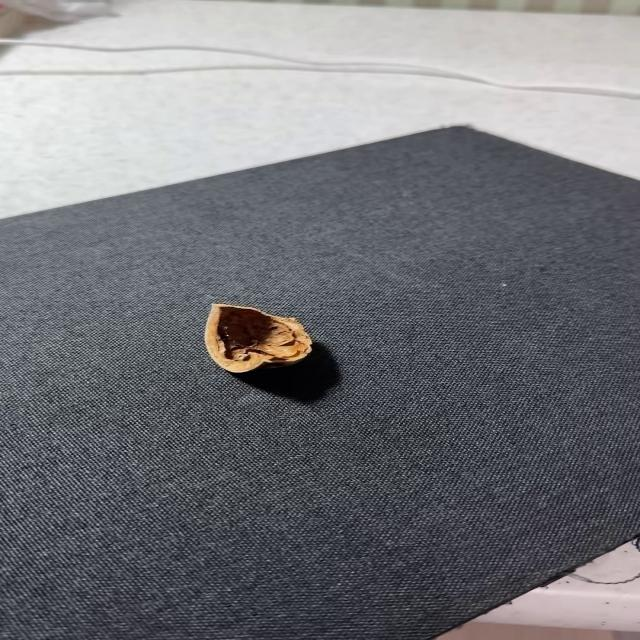nuts-bad0.25: (204, 304, 311, 373)
